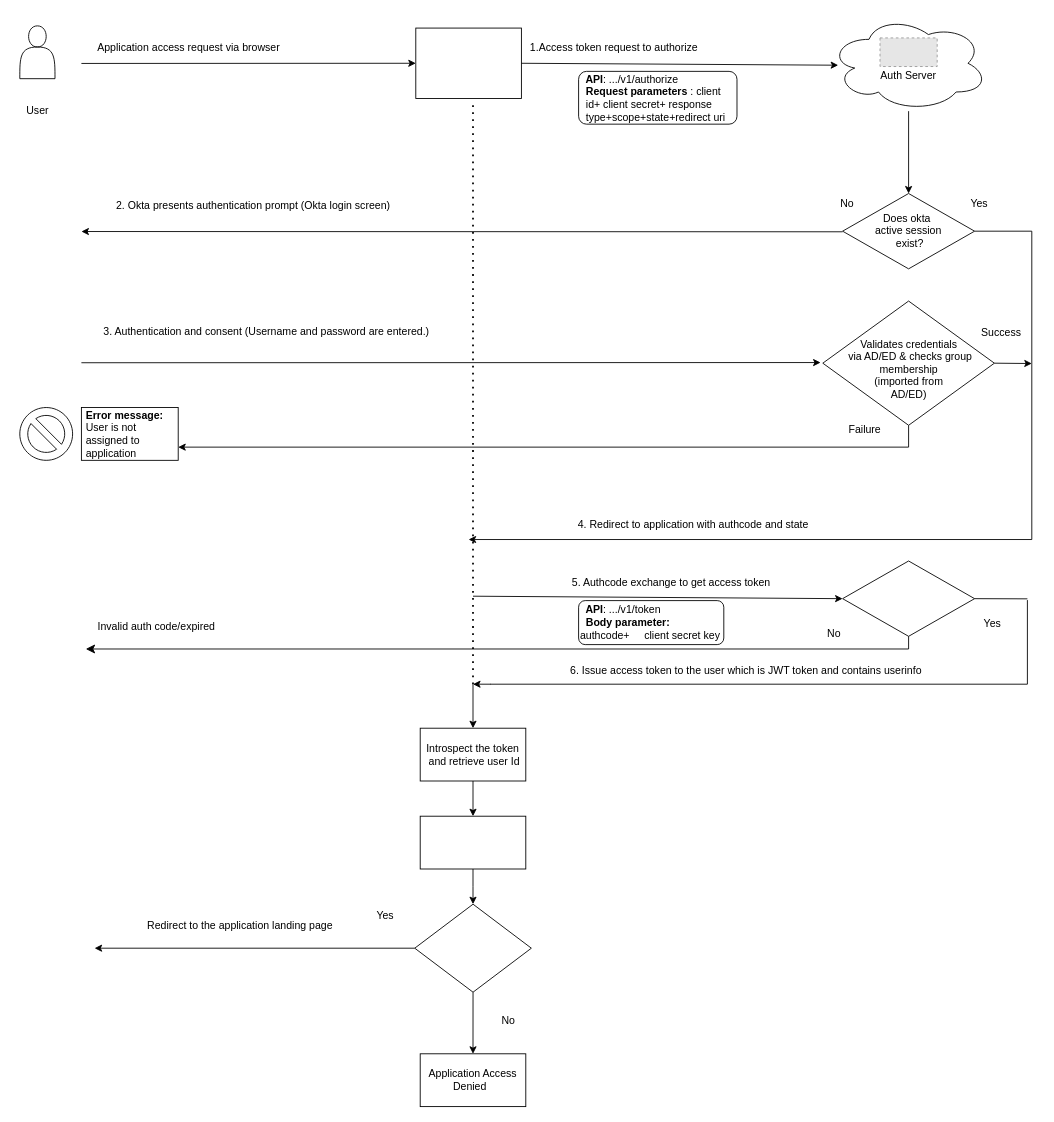
Image size: 1054x1122. Some labels were removed from this diagram. Grey dashed boxes stand in for pictures. The centre of each missing label's shape, as x and y in pixels:
"Application" goes at pixel 468 62.
"Authorized User ?" goes at pixel 472 947.
"Does auth code active?" goes at pixel 908 598.
"Retrieved Employee ID passed to LDAP to get entitlements" goes at pixel 472 842.
